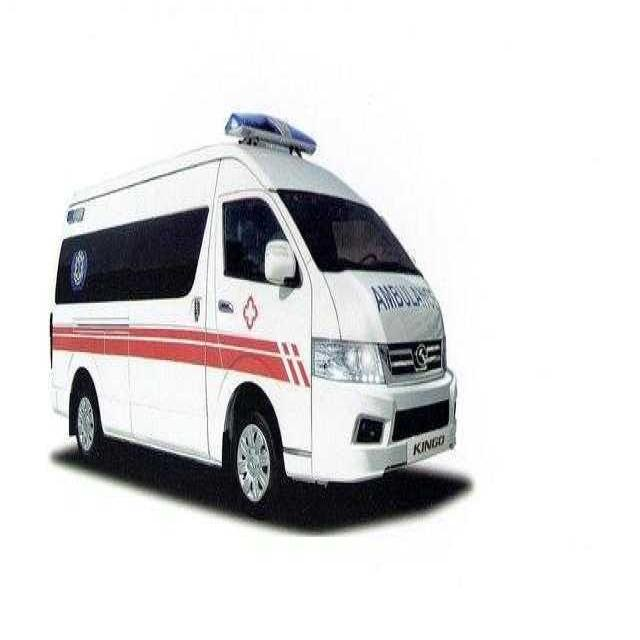ambulance: (38, 102, 470, 536)
